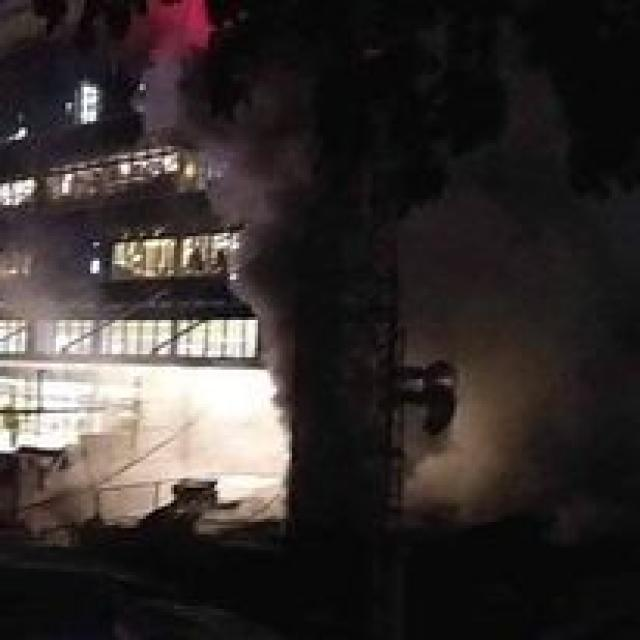Smoke: (144, 54, 294, 426), (404, 374, 466, 482)
